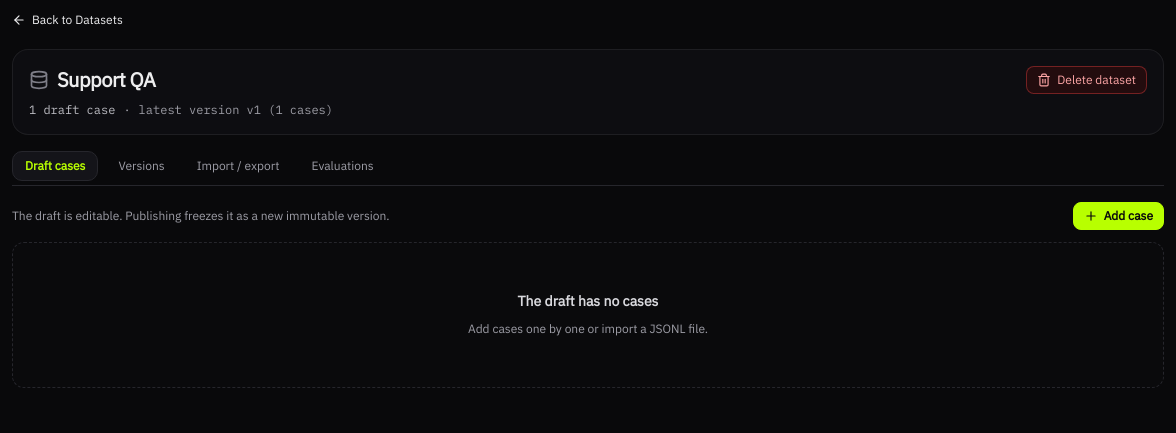
DatasetPage › warns what deleting removes and shows a failed delete instead of failing silently
What coordinates should you click on to do the following:
click the button "Delete dataset"
I would click on:
 (1087, 80)
Its box is [1026,66,1147,94].
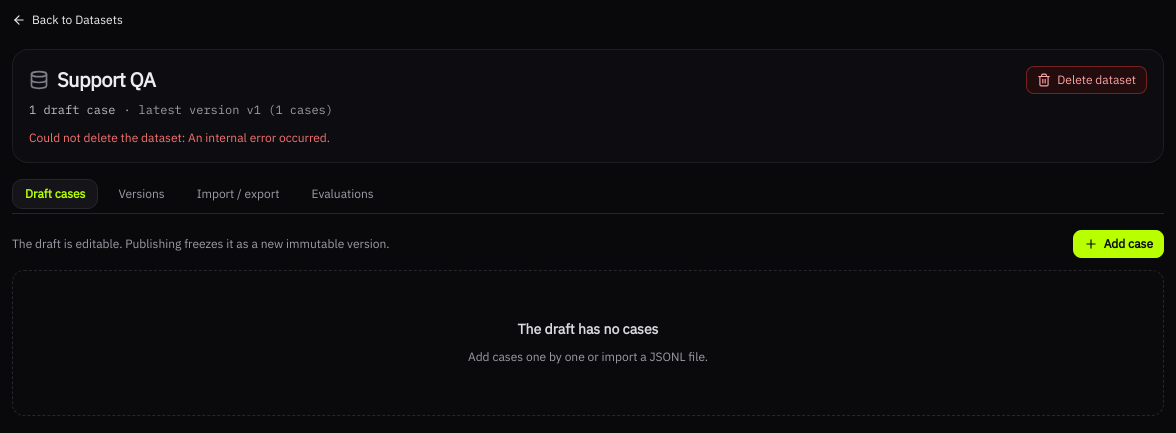
Now the message reads "Could not delete the dataset: An internal error occurred.", box [29,130,330,145]
